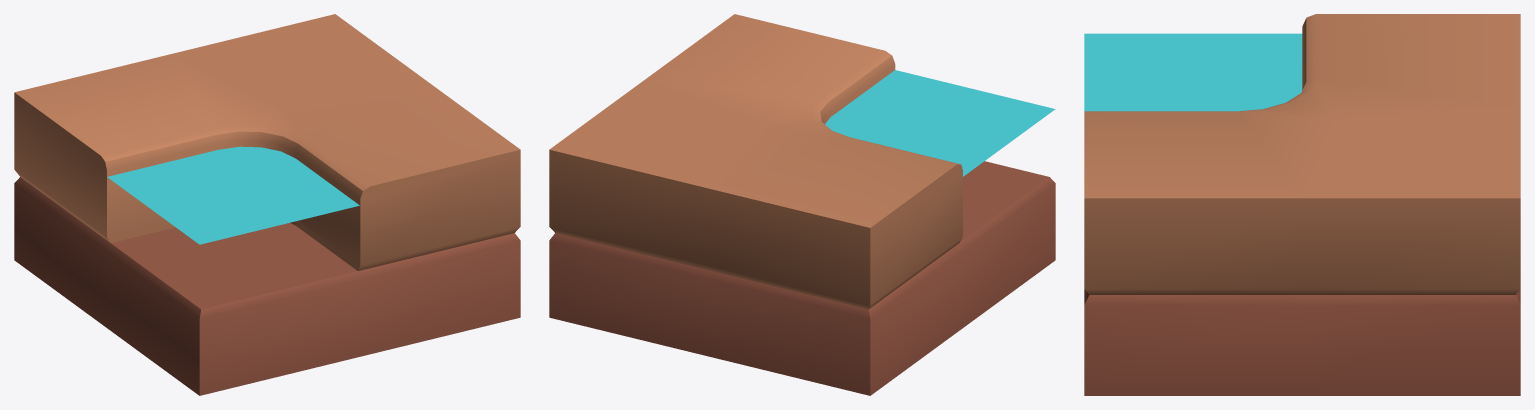
File: square_rock_waterInnerCorner_noSides.glb
The picture shows the model from 3 angles, left to right: view 1: azimuth 30°, elevation 25°; view 2: azimuth 150°, elevation 25°; view 3: azimuth 270°, elevation 25°; orthographic projection. The views are drawn at different scales.
Visible parts, largest first — view 1: square_rock_waterInnerCorner_noSides; view 2: square_rock_waterInnerCorner_noSides; view 3: square_rock_waterInnerCorner_noSides.
Boxes of the visible parts, <box> form: square_rock_waterInnerCorner_noSides: <box>14,14,520,395</box>; square_rock_waterInnerCorner_noSides: <box>549,14,1055,395</box>; square_rock_waterInnerCorner_noSides: <box>1084,14,1520,395</box>.
Bounding box in the file's own units: 2 × 1 × 2.
